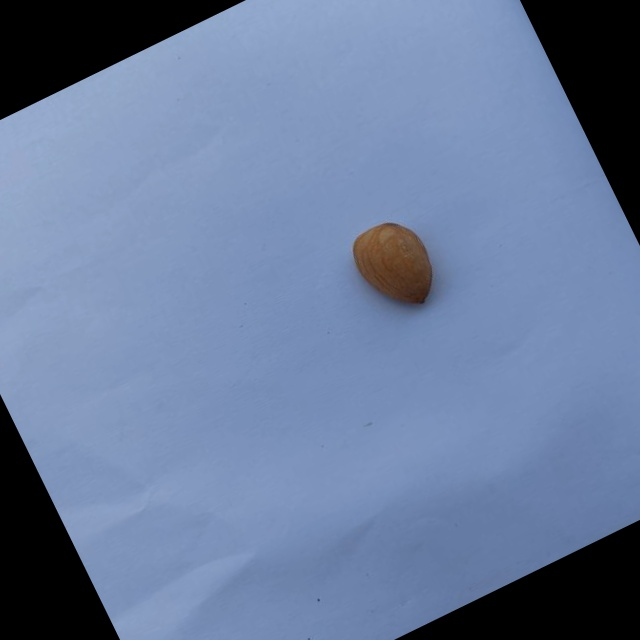grade2: (337, 207, 451, 328)
